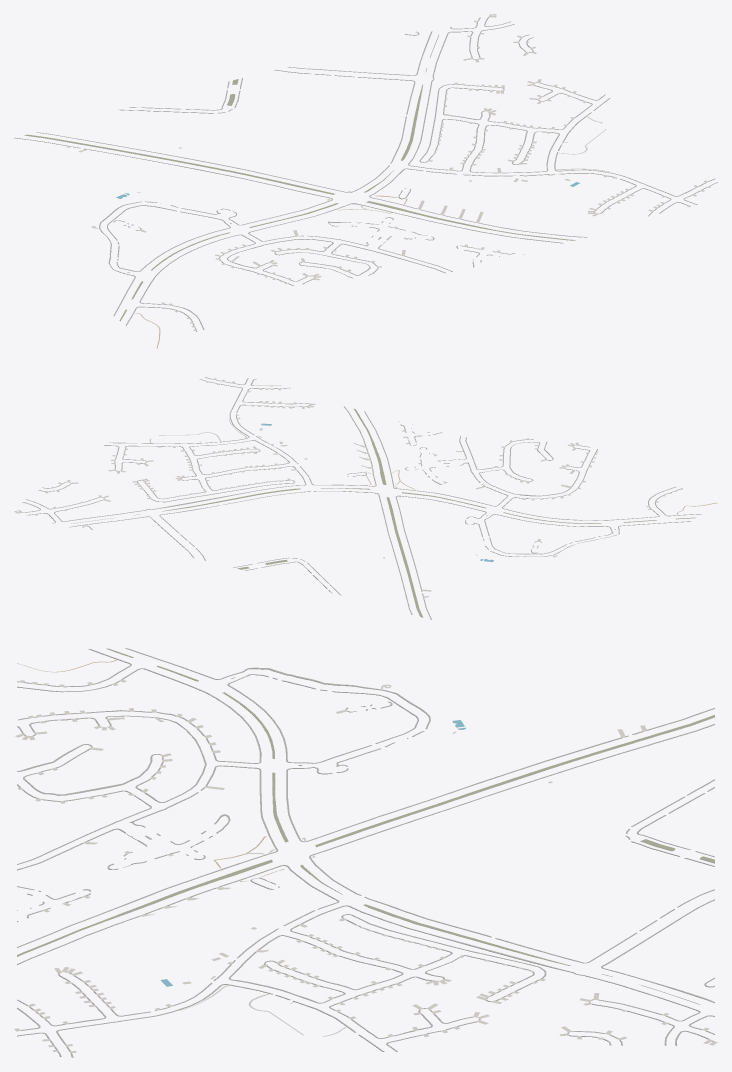
Rendered from ground_r5_c6.glb.
The picture shows the model from 3 angles, top to bottom: view 1: azimuth 30°, elevation 25°; view 2: azimuth 150°, elevation 25°; view 3: azimuth 270°, elevation 25°; orthographic projection. The views are drawn at different scales.
Parts seen in each view (by area): view 1: sidewalks, driveways, medians; view 2: sidewalks, driveways, medians; view 3: sidewalks, driveways, medians, paths.
Part boxes in pixels (x1,y1,x2,y2): sidewalks: [14, 15, 717, 331]; driveways: [66, 14, 710, 330]; medians: [25, 79, 575, 320]; sidewalks: [19, 377, 701, 619]; driveways: [14, 378, 682, 597]; medians: [162, 408, 696, 617]; sidewalks: [17, 648, 714, 1057]; driveways: [14, 675, 717, 1053]; medians: [17, 648, 714, 965]; paths: [17, 660, 455, 1036].
Bounding box in the file's own units: 1126 × 55.17 × 794.
